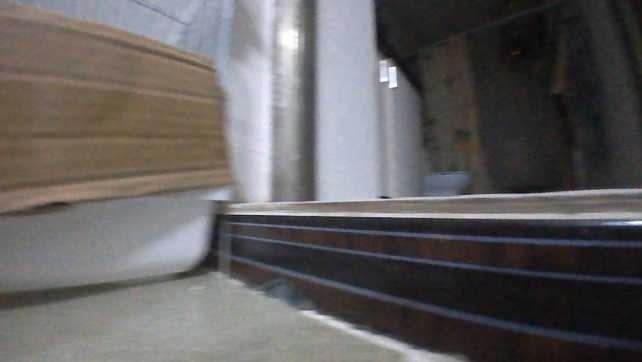door_sill: (217, 195, 632, 360)
toilet: (423, 168, 470, 194)
